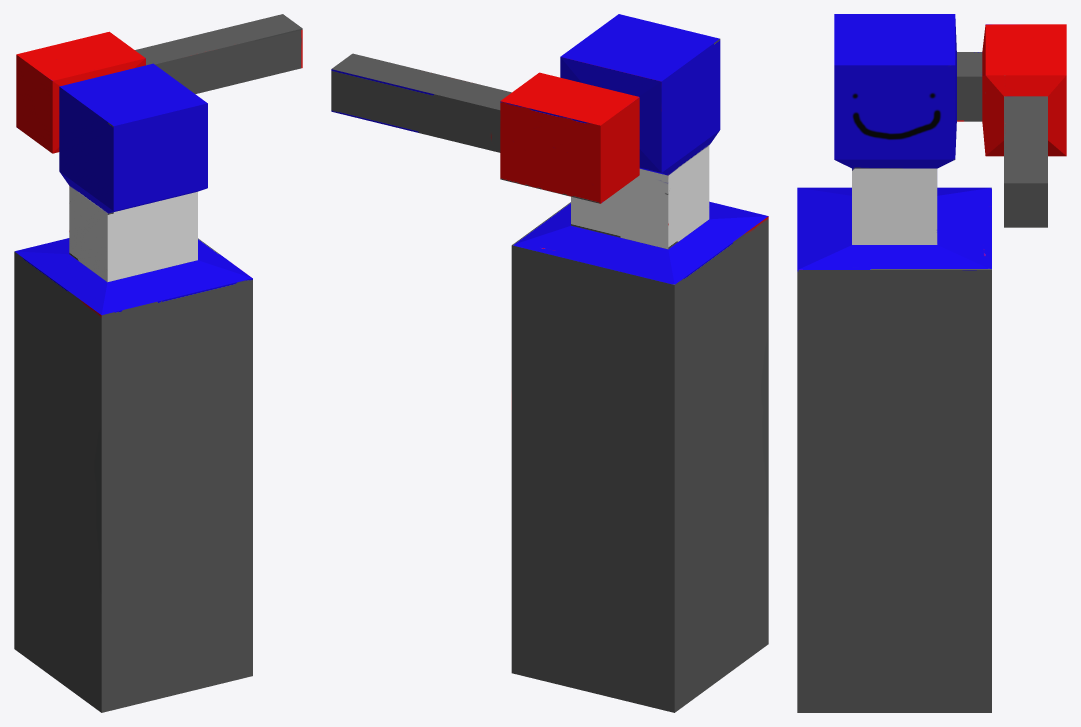
The model's file is toren6.fbx.
3 views of the same model, side by side, from view 1: azimuth 30°, elevation 25°; view 2: azimuth 150°, elevation 25°; view 3: azimuth 270°, elevation 25° (orthographic). The views are drawn at different scales.
Visible parts, largest first — view 1: Cube, Cube.001; view 2: Cube, Cube.001; view 3: Cube, Cube.001.
Boxes of the visible parts, left/top/right/bottom form: Cube: left=14, top=238, right=252, bottom=712; Cube.001: left=16, top=14, right=302, bottom=282; Cube: left=511, top=201, right=768, bottom=712; Cube.001: left=331, top=14, right=720, bottom=249; Cube: left=797, top=187, right=991, bottom=712; Cube.001: left=834, top=14, right=1066, bottom=244.
Bounding box in the file's own units: 388 × 717 × 277.
